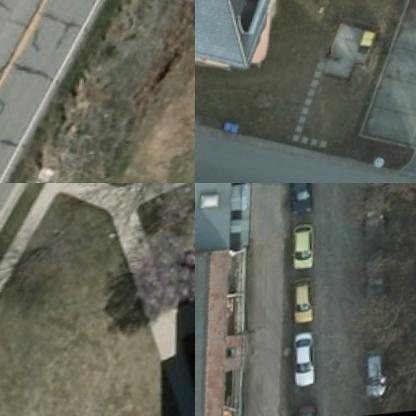car: (358, 248, 393, 305), (286, 224, 322, 274), (366, 350, 398, 404), (294, 336, 325, 390), (362, 192, 392, 242), (291, 280, 322, 328), (283, 183, 319, 221), (298, 407, 330, 415)
